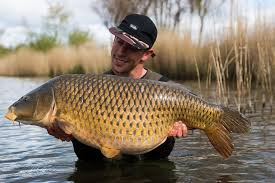carp: (4, 72, 252, 161)
